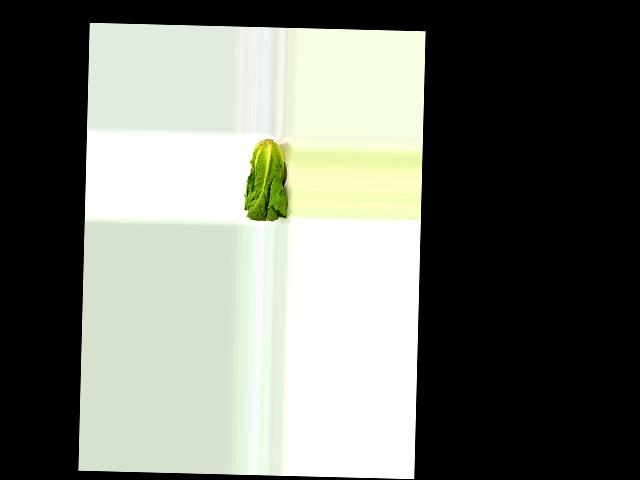lettuce: (242, 137, 289, 221)
